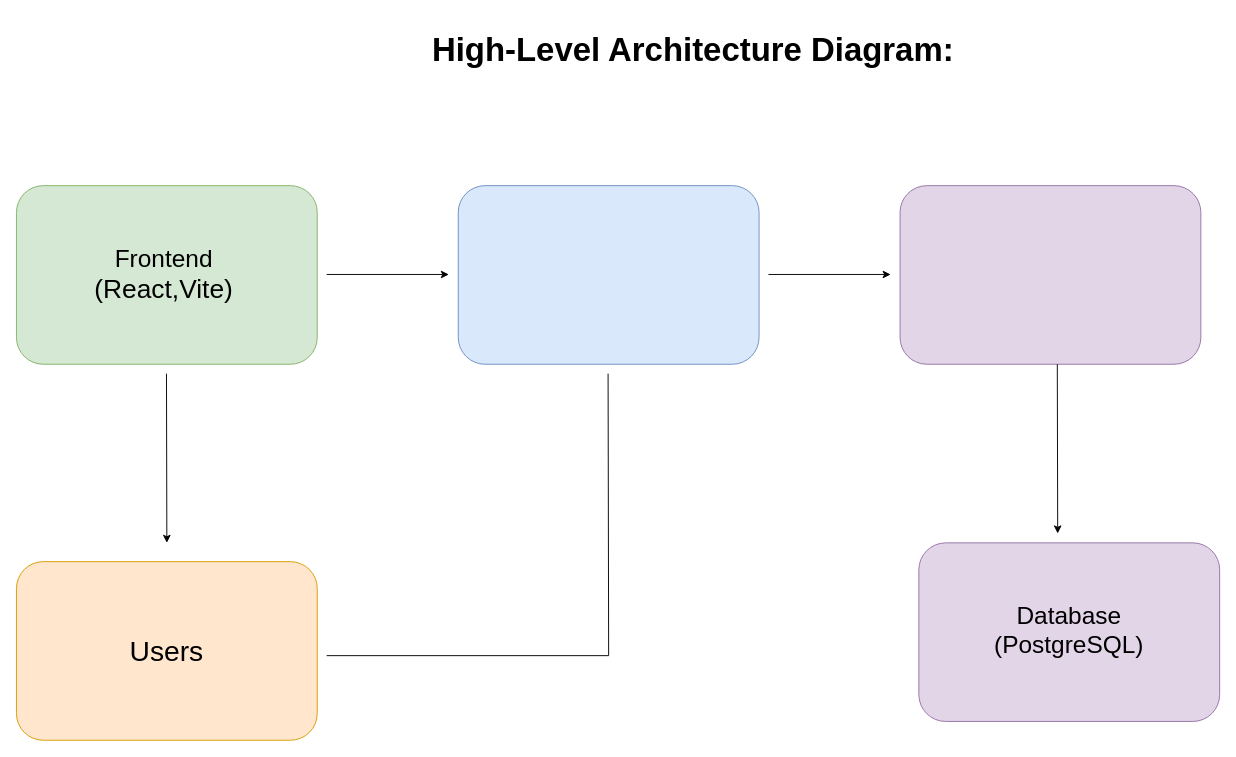
Some shapes in this 1236 by 757 pixel diagram are drawn without their labels. Each missing label, with the centre of its shape:
Authentication (Privy): point (608, 274)
Backend (Drizzle ORM, PostgreSQL): point (1050, 274)
